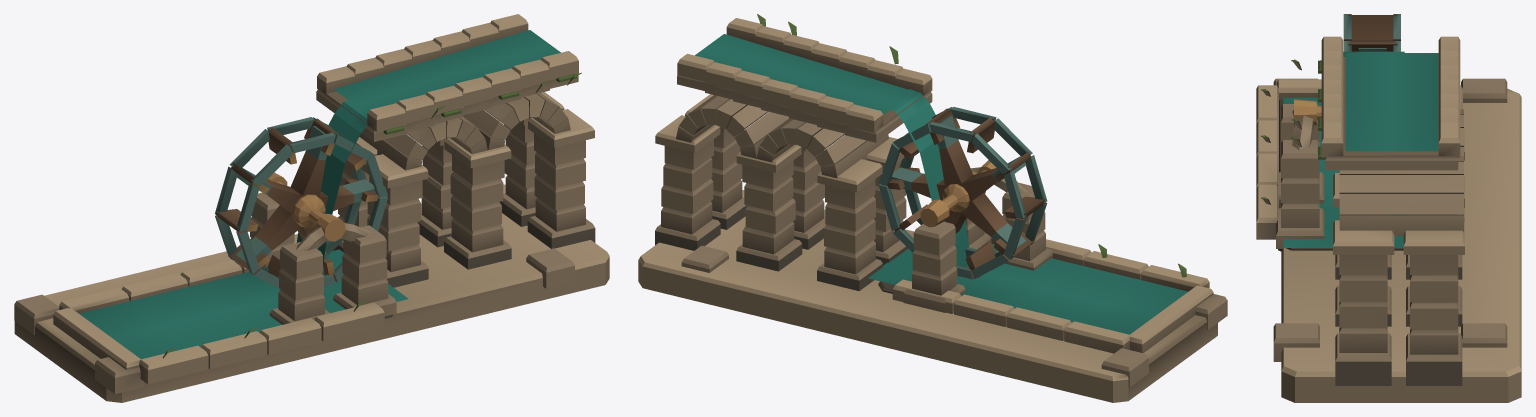
File: heliostat-waterworks.glb
3 renders of one model, left to right at view 1: azimuth 30°, elevation 25°; view 2: azimuth 150°, elevation 25°; view 3: azimuth 270°, elevation 25°, orthographic. The views are drawn at different scales.
Parts seen in each view (by area): view 1: heliostat-waterworks, Sluice_Wheel; view 2: heliostat-waterworks, Sluice_Wheel; view 3: heliostat-waterworks, Sluice_Wheel.
Boxes of the visible parts, x1,y1,x2,y2 form: heliostat-waterworks: [14, 14, 609, 402]; Sluice_Wheel: [215, 117, 387, 288]; heliostat-waterworks: [638, 14, 1227, 402]; Sluice_Wheel: [878, 106, 1047, 279]; heliostat-waterworks: [1256, 36, 1521, 402]; Sluice_Wheel: [1316, 14, 1400, 120].
Bounding box in the file's own units: 13.76 × 5.65 × 5.37.
